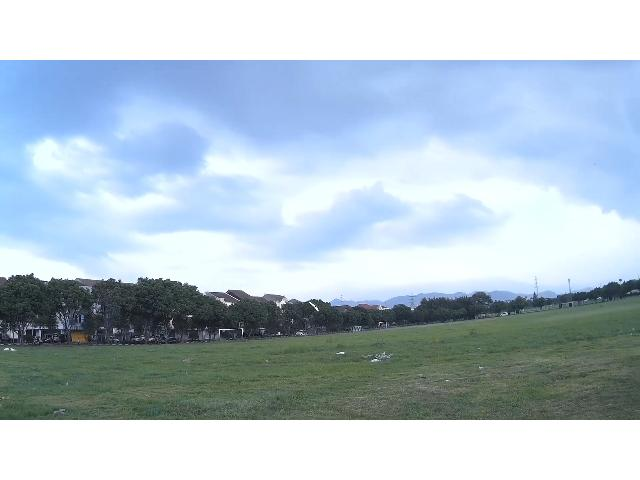Anti-Drone: (300, 295, 324, 317)
